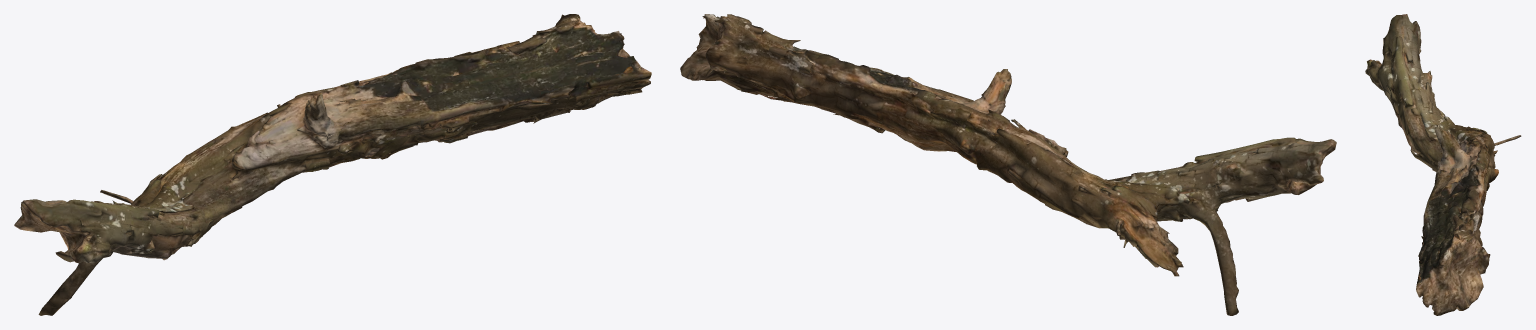
Rendered from log.glb.
The picture shows the model from 3 angles, left to right: view 1: azimuth 30°, elevation 25°; view 2: azimuth 150°, elevation 25°; view 3: azimuth 270°, elevation 25°; orthographic projection. The views are drawn at different scales.
Parts seen in each view (by area): view 1: dead_tree_trunk_02; view 2: dead_tree_trunk_02; view 3: dead_tree_trunk_02.
Boxes of the visible parts, <box> form: dead_tree_trunk_02: <box>14,14,651,315</box>; dead_tree_trunk_02: <box>680,14,1336,315</box>; dead_tree_trunk_02: <box>1365,14,1521,315</box>.
Bounding box in the file's own units: 4.05 × 1.05 × 1.05.
Materials: 1 (1 with a texture image).
